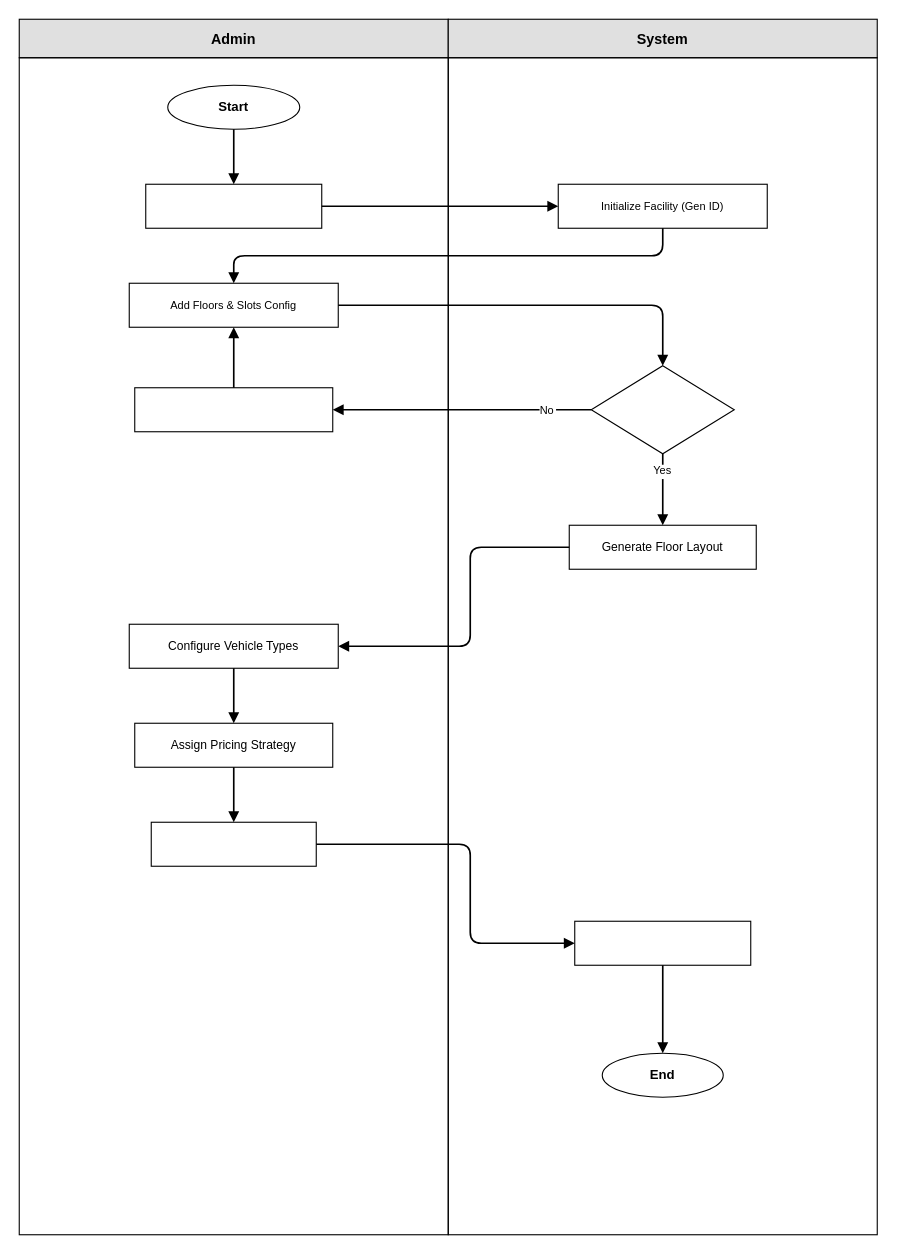
This 897x1254 diagram has some shape labels left out. Here are the shapes that lost their labels. From the top down, the centre of each, then its label:
the point at 233,205: Create New Facility
the point at 233,409: Display Validation Error
the point at 662,409: Config Valid?
the point at 233,843: Activate Facility
the point at 662,942: Facility Is Online
